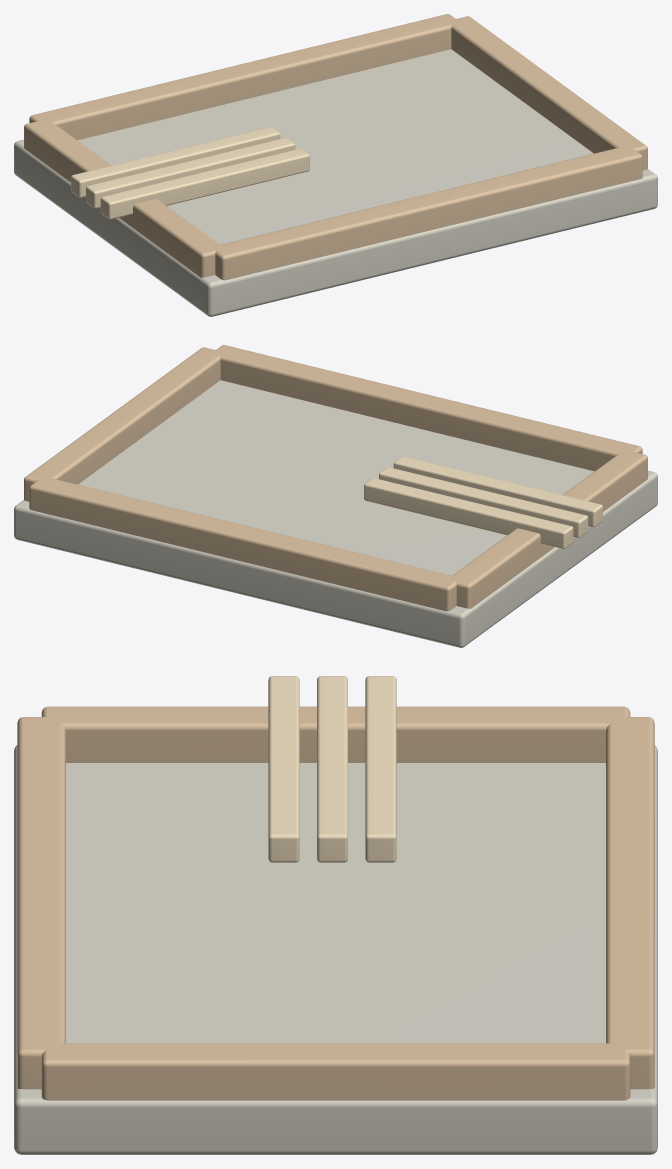
The model's file is goat-shelter-foundation.glb.
3 renders of one model, top to bottom at view 1: azimuth 30°, elevation 25°; view 2: azimuth 150°, elevation 25°; view 3: azimuth 270°, elevation 25°, orthographic. The views are drawn at different scales.
Visible parts, largest first — view 1: Rounded stone footing.020, Sill beam.080, Sill beam.081, Sill beam.083, Sill beam.082, Staged lumber.015, Staged lumber.016, Staged lumber.017; view 2: Rounded stone footing.020, Sill beam.081, Sill beam.080, Sill beam.083, Sill beam.082, Staged lumber.017, Staged lumber.016, Staged lumber.015; view 3: Rounded stone footing.020, Sill beam.083, Sill beam.082, Sill beam.080, Sill beam.081, Staged lumber.015, Staged lumber.017, Staged lumber.016.
Part boxes in pixels (box(x1,y1,x2,y2)): Rounded stone footing.020: box(14, 49, 657, 316); Sill beam.080: box(213, 146, 642, 280); Sill beam.081: box(29, 14, 458, 140); Sill beam.083: box(449, 16, 647, 170); Sill beam.082: box(24, 119, 222, 277); Staged lumber.015: box(100, 148, 309, 219); Staged lumber.016: box(86, 137, 295, 208); Staged lumber.017: box(71, 127, 280, 197); Rounded stone footing.020: box(14, 380, 657, 647); Sill beam.081: box(29, 477, 458, 611); Sill beam.080: box(213, 345, 642, 471); Sill beam.083: box(24, 347, 222, 501); Sill beam.082: box(449, 450, 647, 608); Staged lumber.017: box(364, 478, 573, 548); Staged lumber.016: box(379, 467, 588, 538); Staged lumber.015: box(393, 456, 602, 527); Rounded stone footing.020: box(14, 745, 657, 1154); Sill beam.083: box(41, 1043, 630, 1100); Sill beam.082: box(41, 706, 630, 762); Sill beam.080: box(17, 717, 65, 1089); Sill beam.081: box(606, 717, 654, 1089); Staged lumber.015: box(268, 676, 299, 862); Staged lumber.017: box(365, 676, 396, 862); Staged lumber.016: box(317, 676, 347, 862).
Size of the model in its own units: 2.58 by 0.335 by 1.86.
